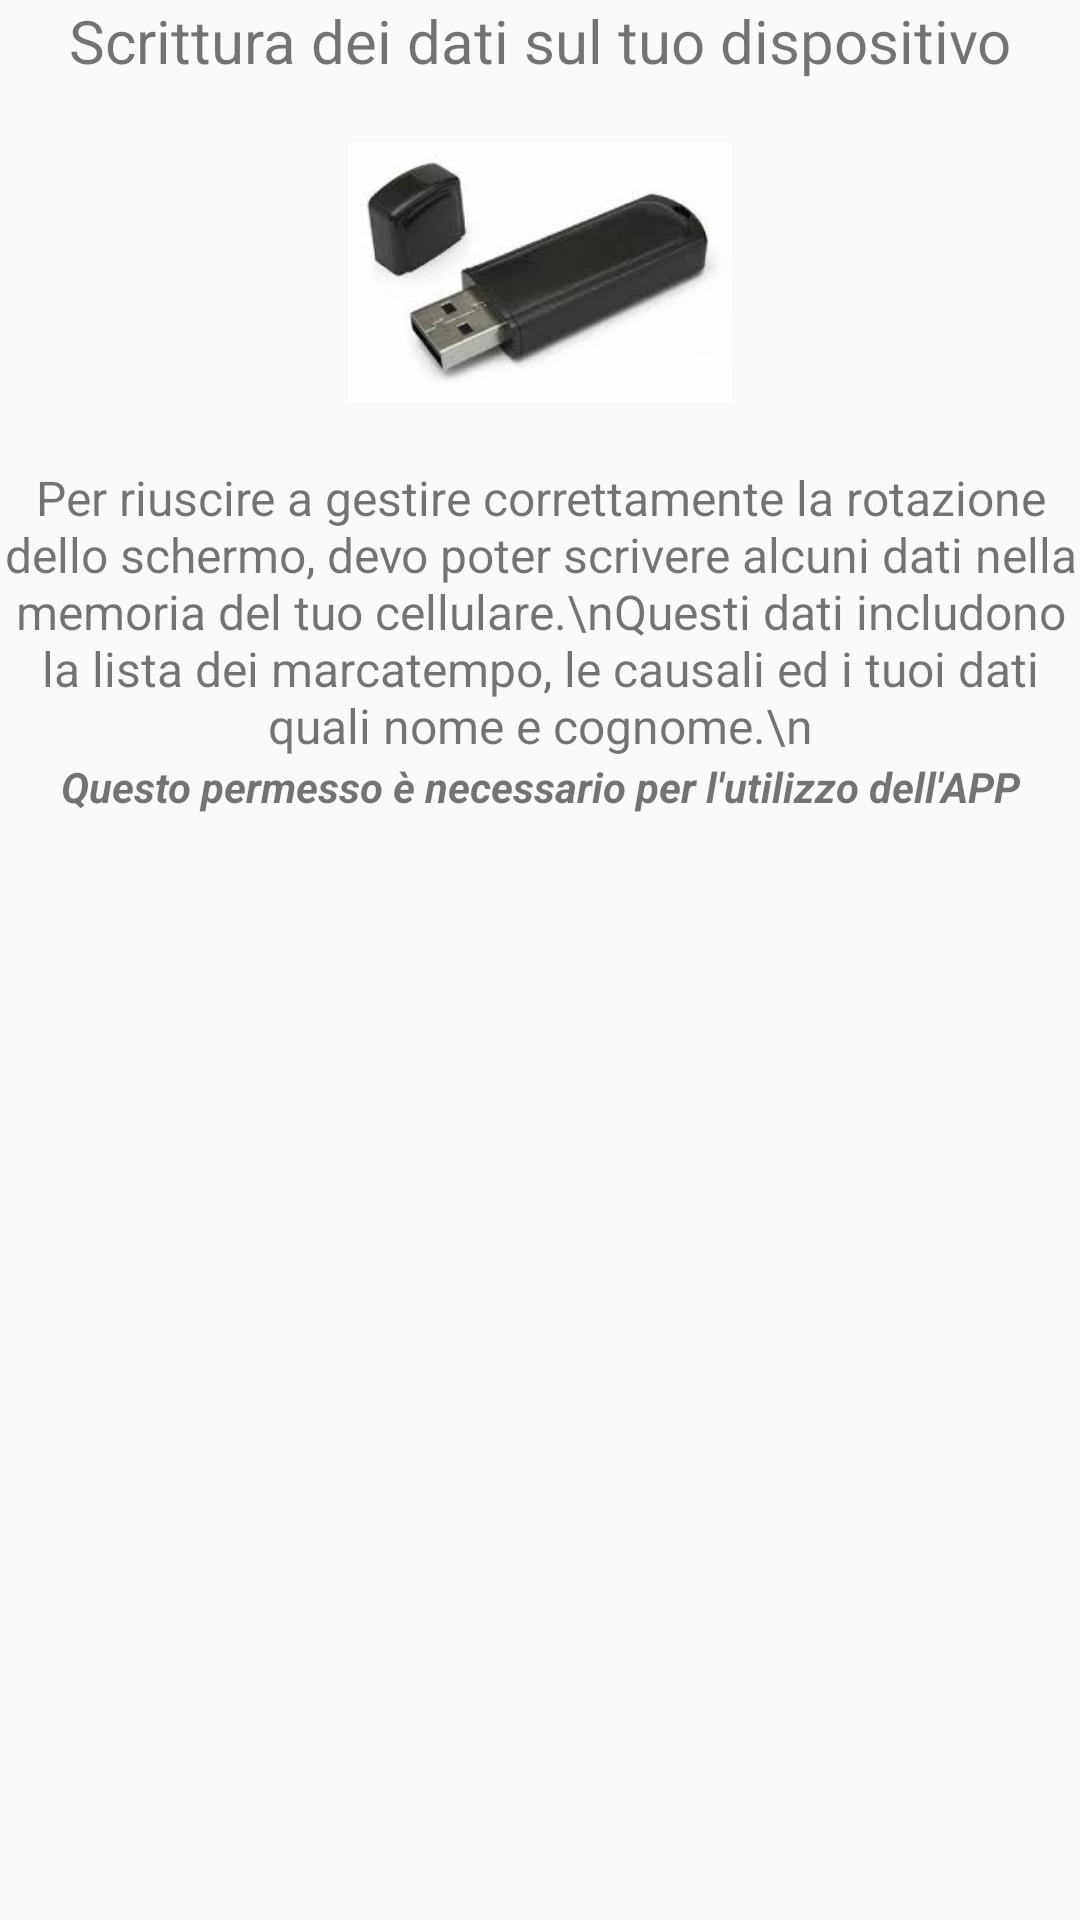

Where icons sit on this 1080px x 1920px app screen, as (x1, y1, x2, y2):
usb: (367, 162, 709, 378)
